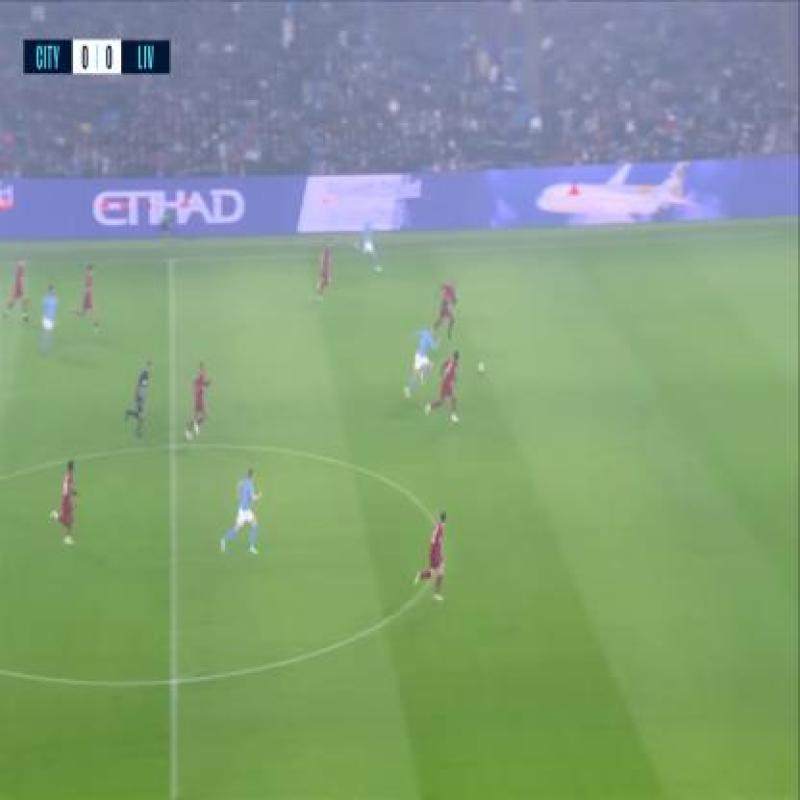13: (163, 245, 181, 278)
14: (160, 425, 186, 463)
15: (160, 663, 190, 702)
c: (414, 512, 466, 563)
